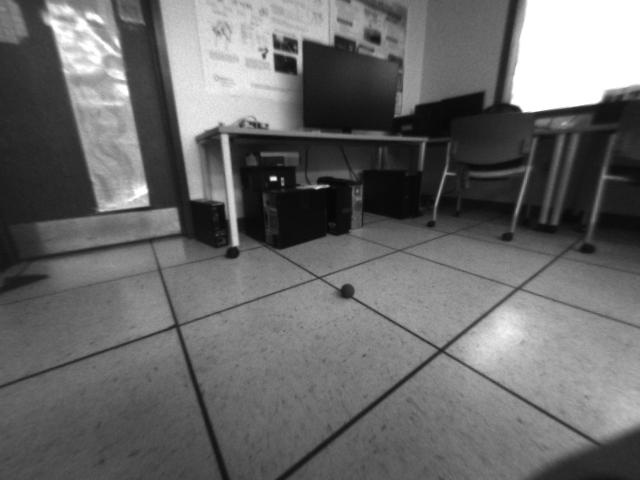dogtoy: (331, 272, 364, 305)
